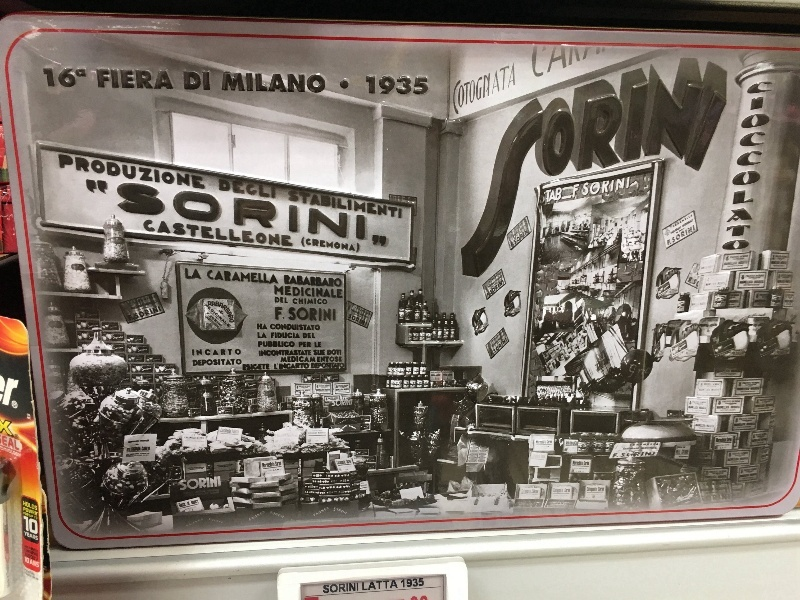text: (529, 54, 544, 293), (545, 54, 560, 293), (561, 54, 576, 293), (577, 54, 592, 293), (593, 54, 608, 293), (609, 54, 624, 293), (625, 54, 640, 293), (641, 54, 656, 293), (657, 54, 672, 293), (673, 54, 688, 293), (689, 54, 704, 293), (705, 54, 720, 293), (721, 54, 732, 293), (753, 79, 768, 254), (769, 79, 776, 254), (97, 174, 112, 251), (113, 174, 128, 251), (129, 174, 144, 251), (145, 174, 160, 251), (161, 174, 176, 251), (177, 174, 192, 251), (193, 174, 208, 251), (209, 174, 224, 251), (225, 174, 240, 251), (241, 174, 256, 251), (257, 174, 272, 251), (273, 174, 288, 251), (289, 174, 304, 251), (305, 174, 320, 251), (321, 174, 336, 251), (337, 174, 352, 251), (353, 174, 368, 251), (369, 174, 384, 251), (82, 174, 96, 251), (385, 174, 397, 251), (449, 62, 464, 118), (465, 62, 480, 118), (481, 62, 496, 118), (497, 62, 512, 118), (748, 79, 752, 254), (65, 152, 80, 191), (81, 152, 96, 191), (97, 152, 112, 191), (113, 152, 128, 191), (129, 152, 144, 191), (145, 152, 160, 191), (161, 152, 176, 191), (177, 152, 192, 191), (545, 46, 560, 82), (561, 46, 576, 82), (577, 46, 592, 82), (593, 46, 608, 82), (193, 152, 206, 191), (289, 188, 304, 220), (305, 188, 320, 220), (321, 188, 336, 220), (337, 188, 352, 220), (353, 188, 368, 220), (369, 188, 384, 220), (385, 188, 400, 220), (145, 218, 160, 250), (161, 218, 176, 250), (177, 218, 192, 250), (193, 218, 208, 250), (209, 218, 224, 250), (225, 218, 240, 250), (241, 218, 256, 250), (257, 218, 272, 250), (273, 218, 288, 250), (1, 375, 16, 407), (545, 174, 560, 205), (561, 174, 576, 205), (577, 174, 592, 205), (593, 174, 608, 205), (609, 174, 624, 205), (210, 294, 224, 324), (673, 223, 688, 250), (533, 46, 544, 82), (225, 71, 240, 96), (241, 71, 256, 96), (257, 71, 272, 96), (273, 71, 288, 96), (289, 71, 304, 96), (305, 71, 320, 96), (225, 294, 237, 324), (225, 178, 240, 201), (241, 178, 256, 201), (257, 178, 272, 201), (209, 304, 224, 327), (97, 68, 112, 90), (113, 68, 128, 90), (129, 68, 144, 90), (145, 68, 160, 90), (369, 75, 384, 97), (385, 75, 400, 97), (401, 75, 416, 97), (161, 68, 175, 90), (49, 68, 64, 88), (65, 68, 80, 88), (193, 71, 208, 91), (513, 228, 528, 248), (57, 152, 64, 191), (417, 75, 429, 97), (1, 420, 16, 437), (689, 223, 698, 250), (305, 237, 320, 253), (321, 237, 336, 253), (337, 237, 352, 253), (193, 475, 208, 491), (209, 312, 223, 329), (289, 307, 304, 322), (305, 307, 320, 322), (321, 307, 336, 322), (129, 306, 144, 321), (145, 306, 160, 321), (289, 218, 296, 250), (209, 270, 224, 284), (225, 270, 240, 284), (241, 270, 256, 284), (257, 270, 272, 284), (289, 274, 304, 288), (305, 274, 320, 288), (321, 274, 336, 288), (289, 285, 304, 299), (305, 285, 320, 299), (321, 285, 336, 299), (353, 313, 368, 327), (2, 436, 16, 451), (179, 475, 192, 491), (321, 71, 329, 96), (275, 307, 288, 322), (209, 475, 221, 491), (497, 338, 507, 357), (625, 174, 631, 205), (275, 285, 288, 299), (183, 71, 192, 91), (337, 582, 352, 594), (369, 580, 384, 592), (513, 62, 516, 118), (385, 580, 399, 592), (401, 578, 416, 589), (666, 223, 672, 250), (487, 280, 496, 298), (24, 515, 32, 535), (323, 582, 336, 594), (690, 277, 704, 288), (81, 68, 88, 88), (218, 178, 224, 201), (225, 304, 231, 327), (24, 545, 32, 562), (193, 358, 208, 367), (209, 358, 224, 367), (225, 358, 240, 367), (337, 399, 353, 407), (497, 280, 504, 298), (42, 68, 48, 88), (193, 268, 203, 280), (305, 298, 320, 306), (209, 348, 224, 356), (225, 348, 240, 356), (273, 324, 288, 332), (289, 324, 304, 332), (305, 324, 320, 332), (273, 349, 288, 357), (289, 349, 304, 357), (289, 362, 304, 370), (490, 338, 496, 357), (353, 237, 360, 253), (258, 349, 272, 357), (257, 323, 272, 330), (257, 332, 272, 339), (273, 332, 288, 339), (273, 341, 288, 348), (289, 356, 304, 363), (321, 356, 336, 363), (321, 362, 336, 369), (275, 296, 288, 304), (243, 363, 256, 371), (257, 363, 270, 371), (33, 545, 39, 562), (33, 515, 38, 535), (273, 270, 280, 284), (258, 341, 272, 348), (274, 363, 288, 370), (17, 375, 20, 407), (541, 174, 544, 205), (225, 428, 240, 434), (23, 501, 32, 511), (293, 298, 304, 306), (417, 578, 425, 589), (185, 268, 192, 280), (337, 285, 343, 299), (289, 332, 301, 339), (305, 356, 317, 363), (25, 569, 32, 581), (24, 507, 32, 517), (24, 531, 32, 541), (25, 557, 32, 568), (33, 557, 40, 568), (221, 71, 224, 96), (129, 447, 144, 452), (305, 333, 317, 339), (279, 362, 288, 370), (353, 582, 359, 594), (362, 580, 368, 592), (33, 569, 39, 581), (337, 274, 342, 288), (193, 349, 203, 356), (262, 461, 272, 468), (273, 178, 276, 201), (365, 75, 368, 97), (321, 298, 329, 306), (24, 512, 32, 520), (327, 349, 336, 356), (311, 362, 320, 369), (273, 461, 282, 468), (284, 274, 288, 288), (305, 349, 312, 357), (337, 362, 345, 369), (33, 501, 38, 511), (33, 507, 38, 517), (33, 531, 38, 541), (305, 341, 312, 348), (313, 349, 320, 356), (281, 356, 288, 363), (206, 304, 208, 327), (17, 436, 20, 451), (289, 341, 295, 348), (337, 356, 343, 363), (209, 71, 211, 91), (305, 362, 310, 370), (510, 228, 512, 248), (33, 512, 38, 520), (299, 341, 304, 348), (321, 349, 326, 356), (337, 349, 342, 356), (401, 188, 402, 220), (143, 218, 144, 250), (302, 237, 304, 253), (315, 342, 320, 348), (27, 414, 32, 420), (350, 313, 352, 327), (145, 447, 150, 452), (333, 399, 336, 407), (317, 356, 320, 363), (529, 228, 530, 248), (221, 428, 224, 434), (13, 402, 16, 408), (206, 348, 208, 356), (270, 324, 272, 332), (127, 306, 128, 321), (161, 306, 162, 321), (241, 358, 242, 367), (241, 348, 242, 356), (321, 324, 322, 332), (271, 332, 272, 339), (303, 333, 304, 339), (321, 342, 322, 348), (127, 447, 128, 452), (17, 435, 18, 438)
